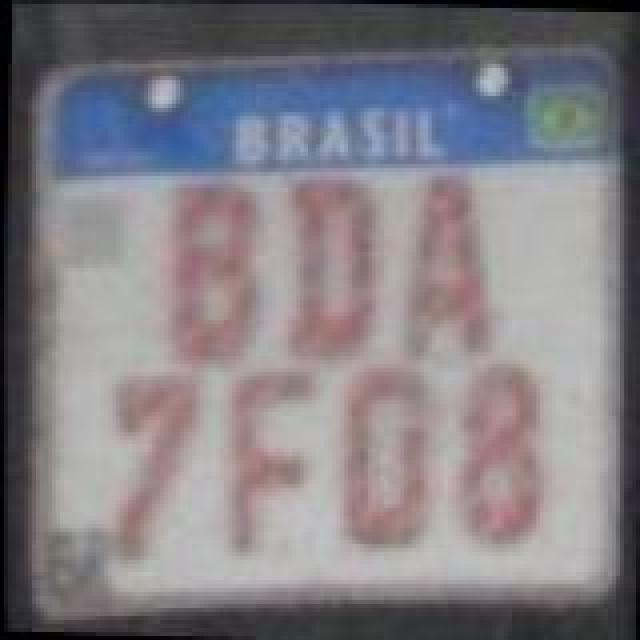7: (98, 368, 206, 564)
8: (440, 356, 548, 552)
A: (390, 162, 498, 366)
B: (152, 170, 272, 366)
D: (274, 170, 390, 374), (328, 360, 436, 556)
F: (212, 360, 320, 556)
